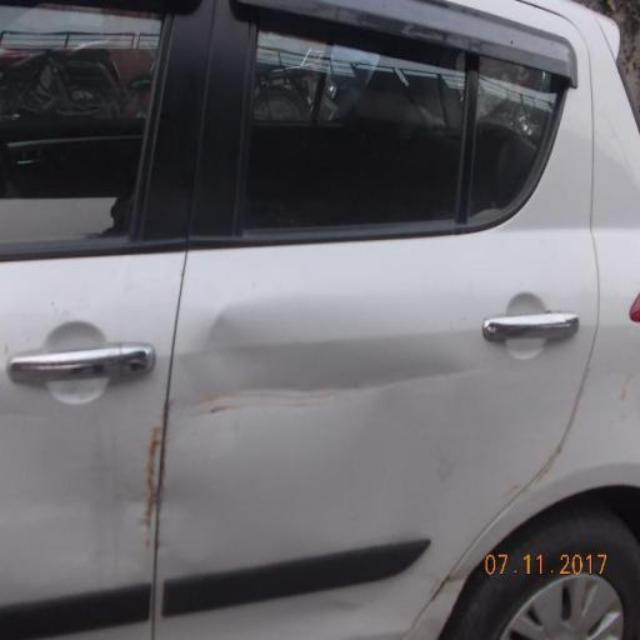crack: (505, 354, 597, 508), (427, 568, 465, 608)
scratch: (175, 362, 495, 427), (343, 557, 468, 638), (143, 414, 163, 548), (614, 364, 636, 426)
